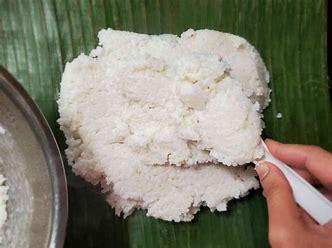Kiribath: (46, 26, 277, 247)
